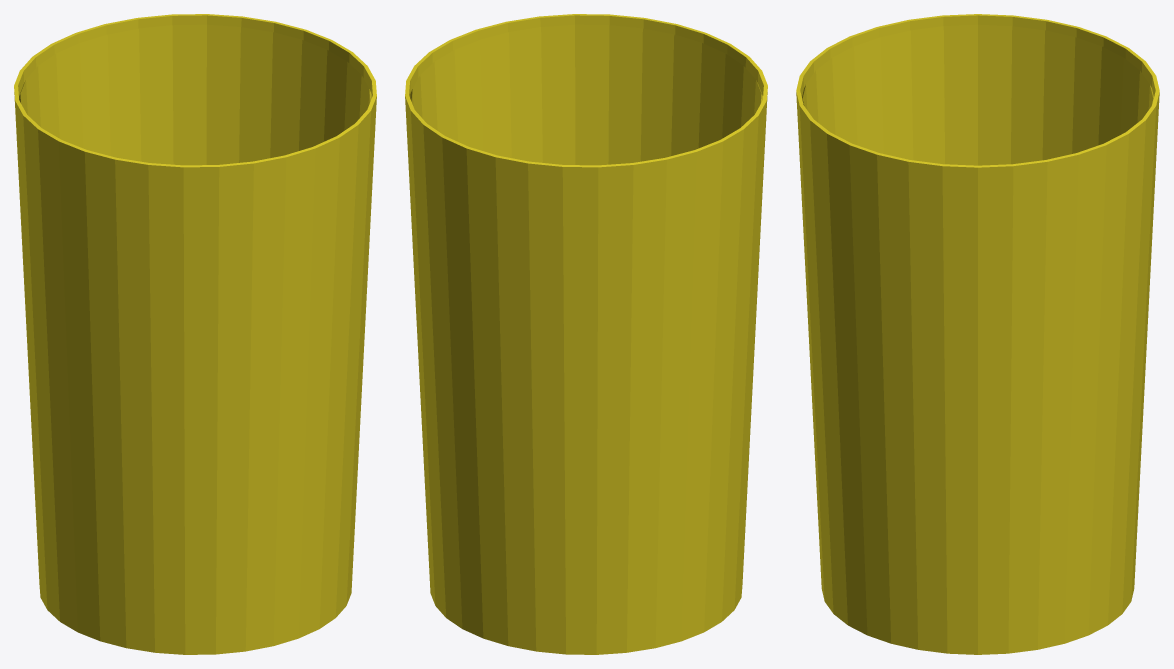
Rendered from yellow_cup.fbx.
3 renders of one model, left to right at view 1: azimuth 30°, elevation 25°; view 2: azimuth 150°, elevation 25°; view 3: azimuth 270°, elevation 25°, orthographic.
Parts seen in each view (by area): view 1: cup.001; view 2: cup.001; view 3: cup.001.
Part boxes in pixels (x1,y1,x2,y2): cup.001: [14, 14, 376, 654]; cup.001: [405, 14, 767, 654]; cup.001: [796, 14, 1159, 654].
Bounding box in the file's own units: 71.15 × 108 × 71.15.
